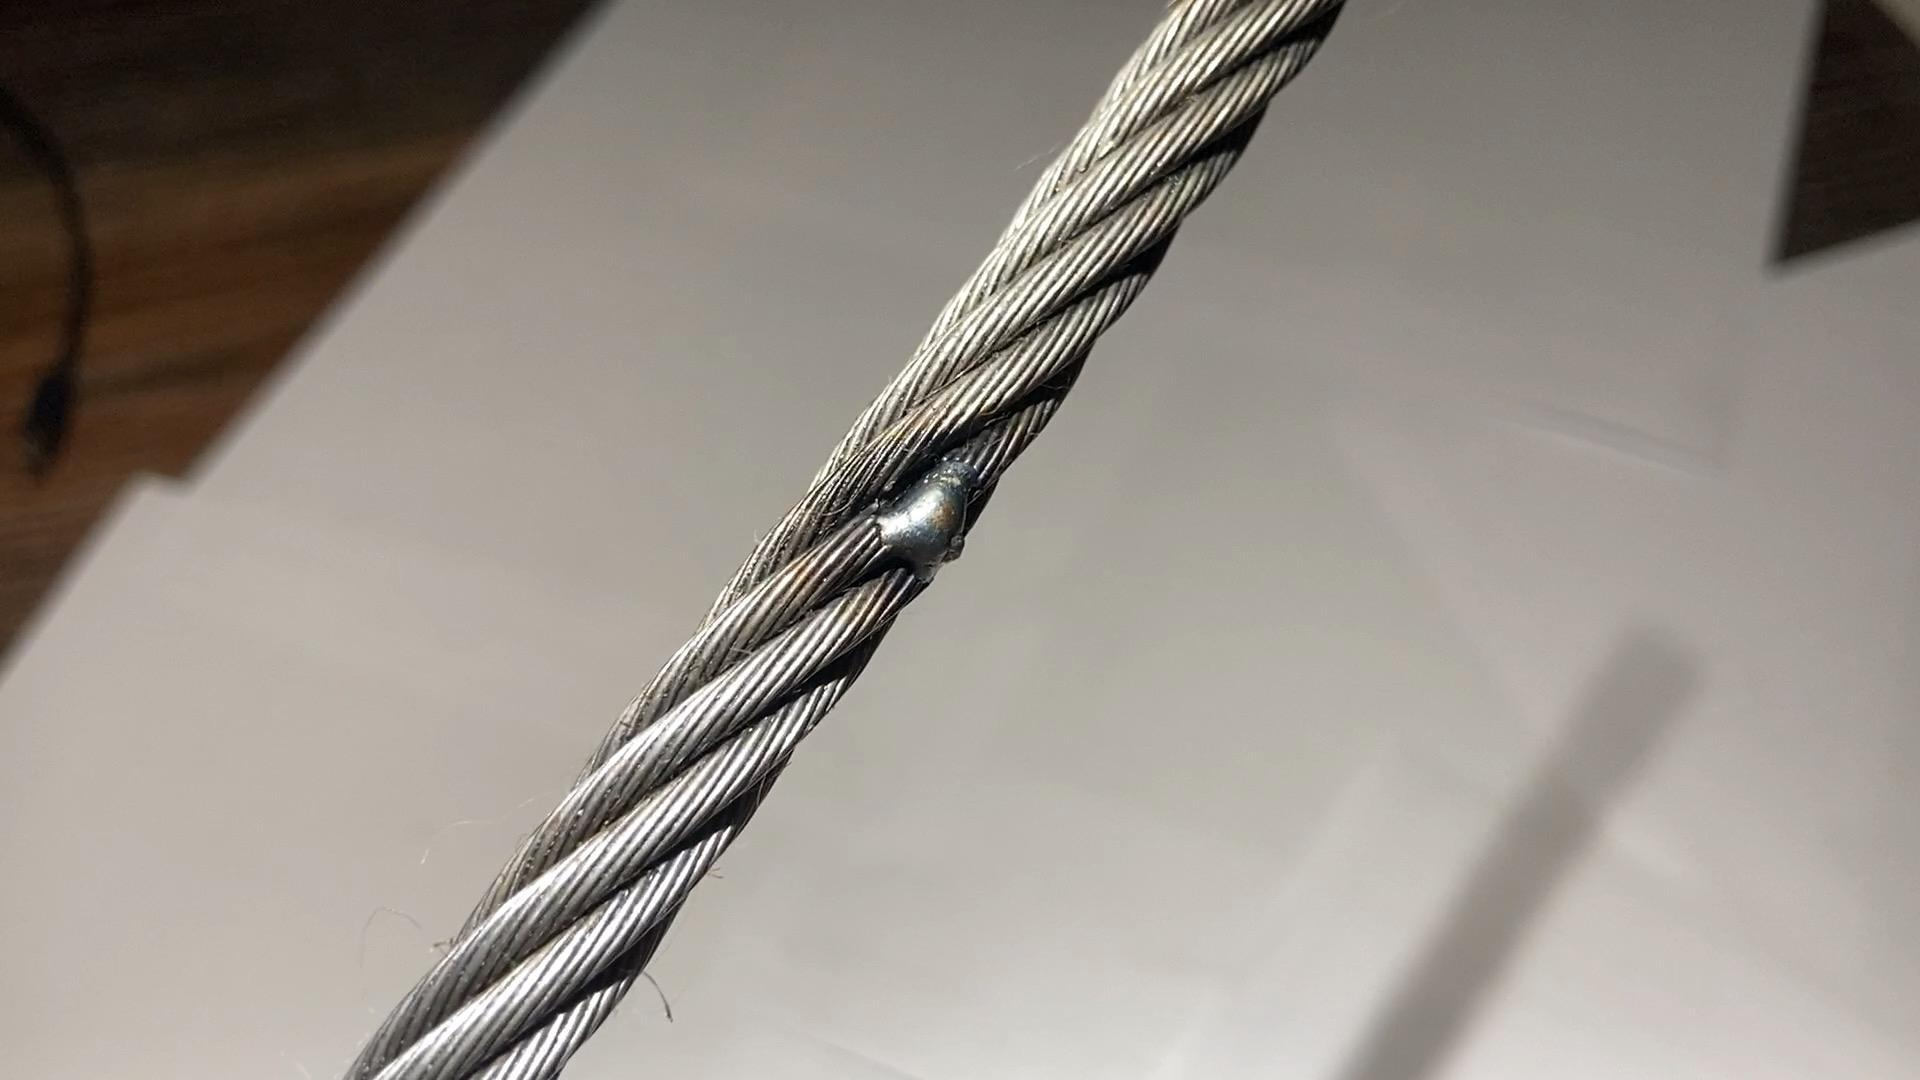thunderbolt: (881, 460, 990, 560)
